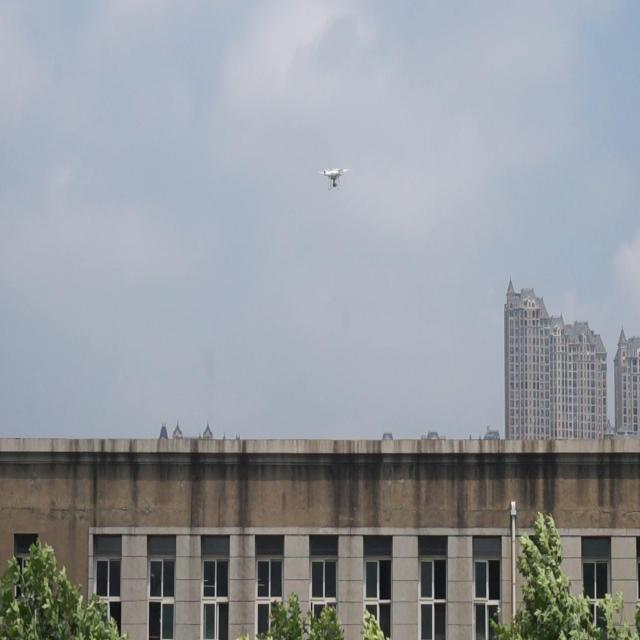UAV: (317, 168, 349, 190)
